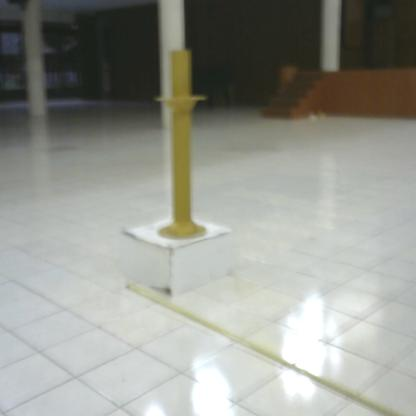pole: (148, 44, 212, 249)
